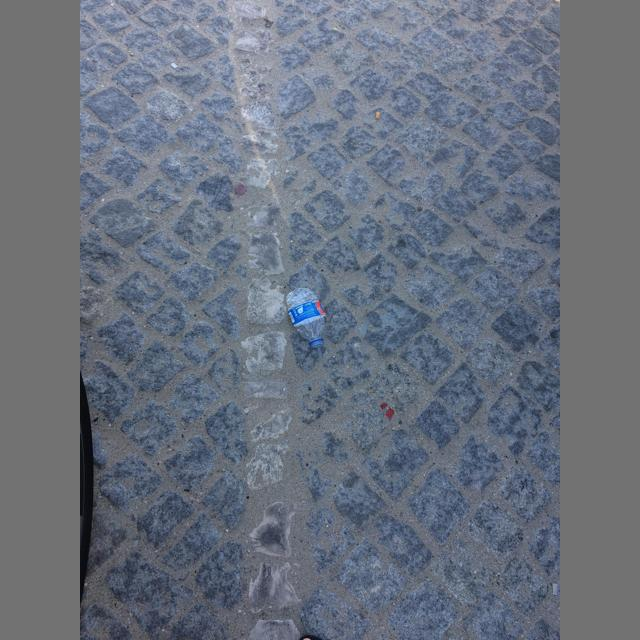litter: (285, 288, 326, 348), (288, 301, 326, 327), (375, 111, 381, 119), (553, 583, 557, 595), (170, 63, 178, 68)
